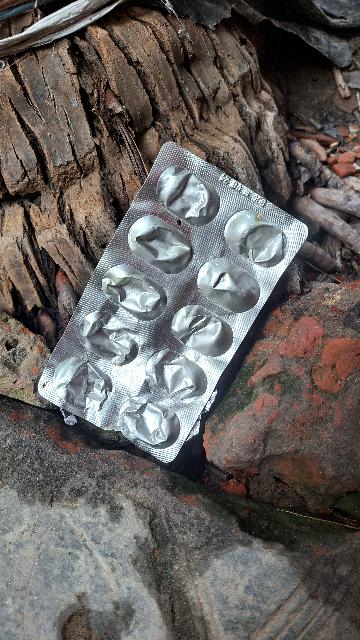medicine: (16, 136, 312, 481)
